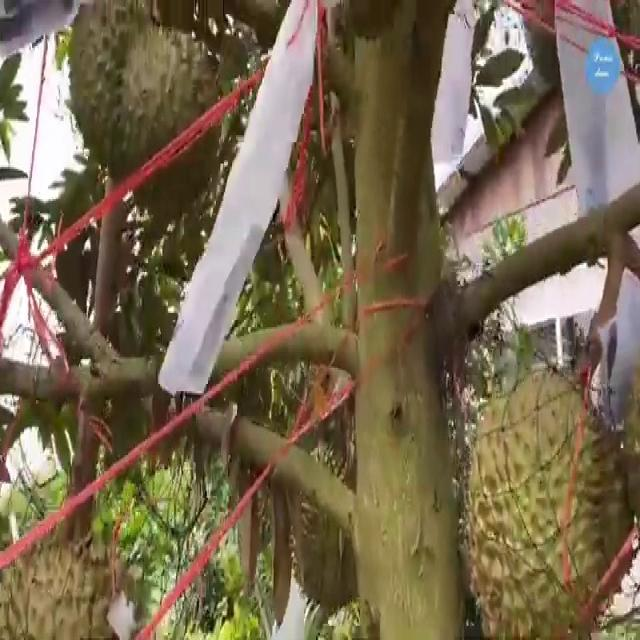durian: (446, 343, 632, 633), (110, 24, 232, 221), (58, 0, 173, 183), (5, 526, 148, 636)
